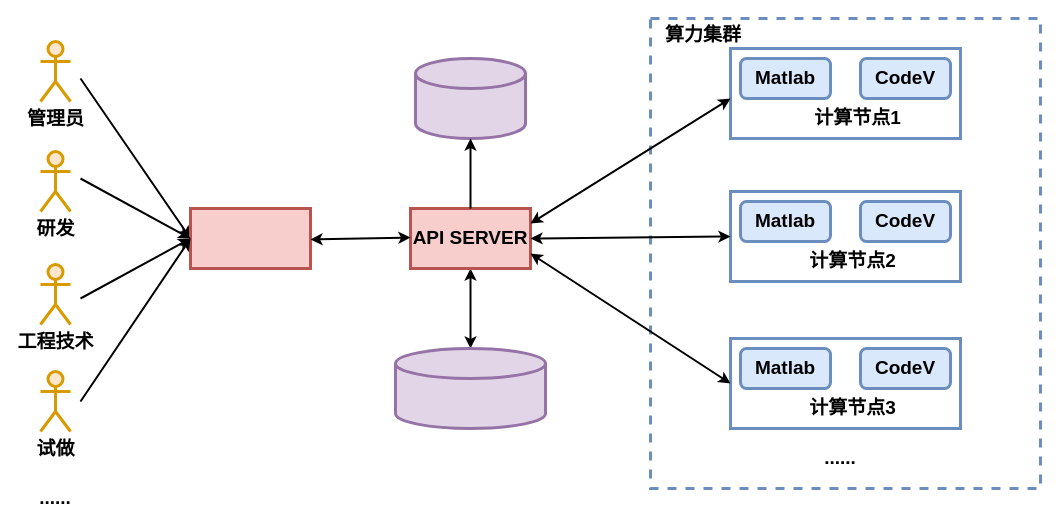
Some shapes in this 1059 by 527 pixel diagram are drawn without their labels. Here are the shapes that lost their labels. From the top down, the box of each, then its label:
(414, 56, 526, 140): MySQL
(188, 206, 312, 270): 仿真计算平台
(394, 346, 546, 430): 文件存储服务器
